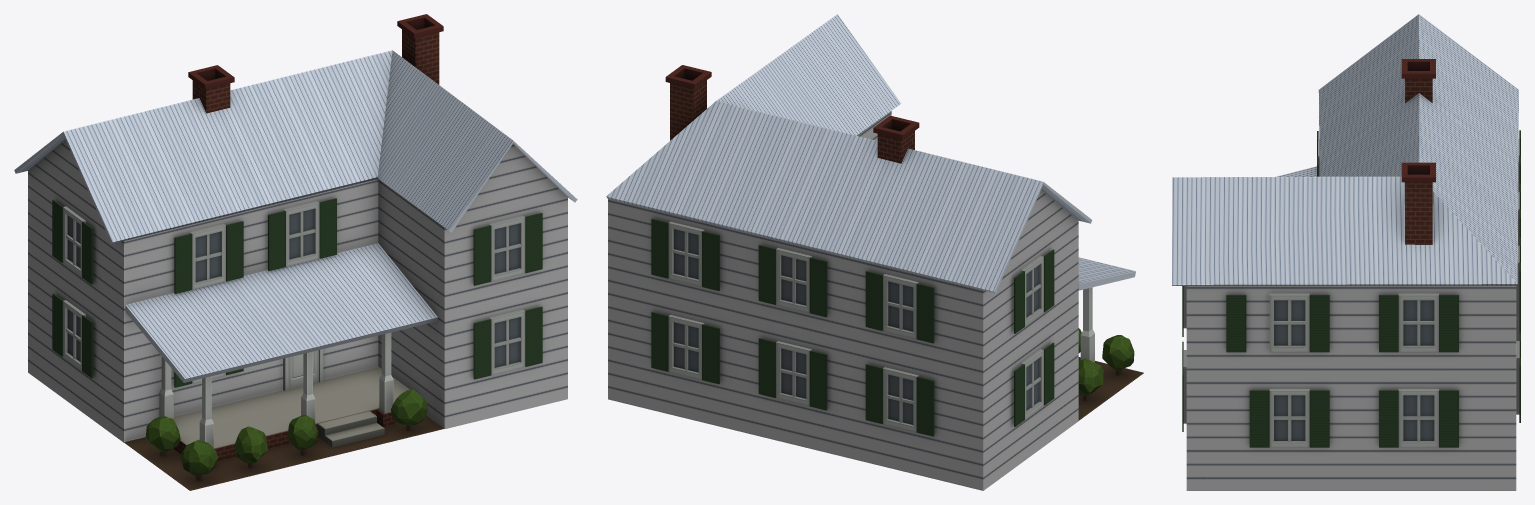
File: house.glb
The picture shows the model from 3 angles, left to right: view 1: azimuth 30°, elevation 25°; view 2: azimuth 150°, elevation 25°; view 3: azimuth 270°, elevation 25°; orthographic projection. The views are drawn at different scales.
Parts seen in each view (by area): view 1: node-0; view 2: node-0; view 3: node-0.
Boxes of the visible parts, box(x1,y1,x2,y2) form: node-0: box(14, 14, 577, 490); node-0: box(606, 14, 1143, 490); node-0: box(1172, 14, 1520, 490).
Size of the model in its own units: 25.34 by 18.43 by 19.12.
Materials: 1 (1 with a texture image).
